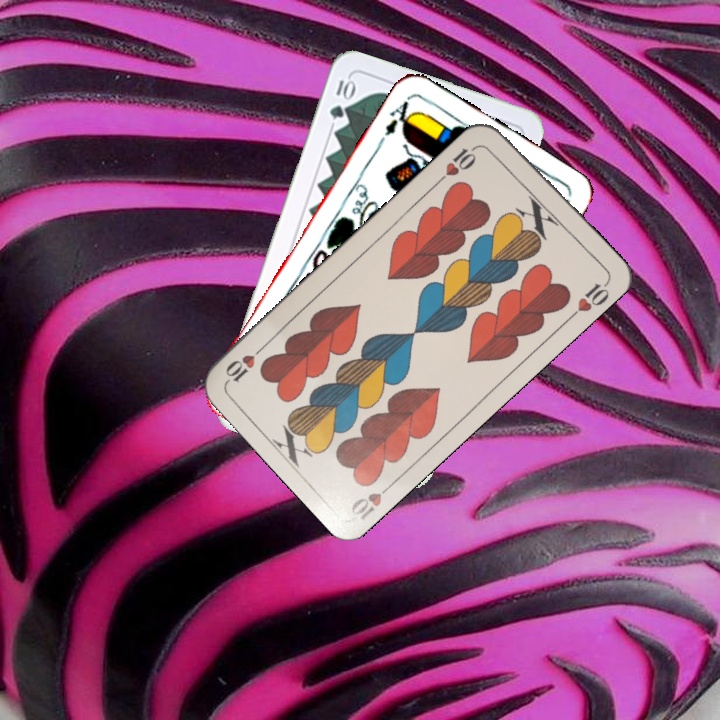EA: (380, 92, 418, 139)
G10: (325, 73, 356, 123)
H10: (345, 476, 398, 523), (435, 140, 483, 185)
